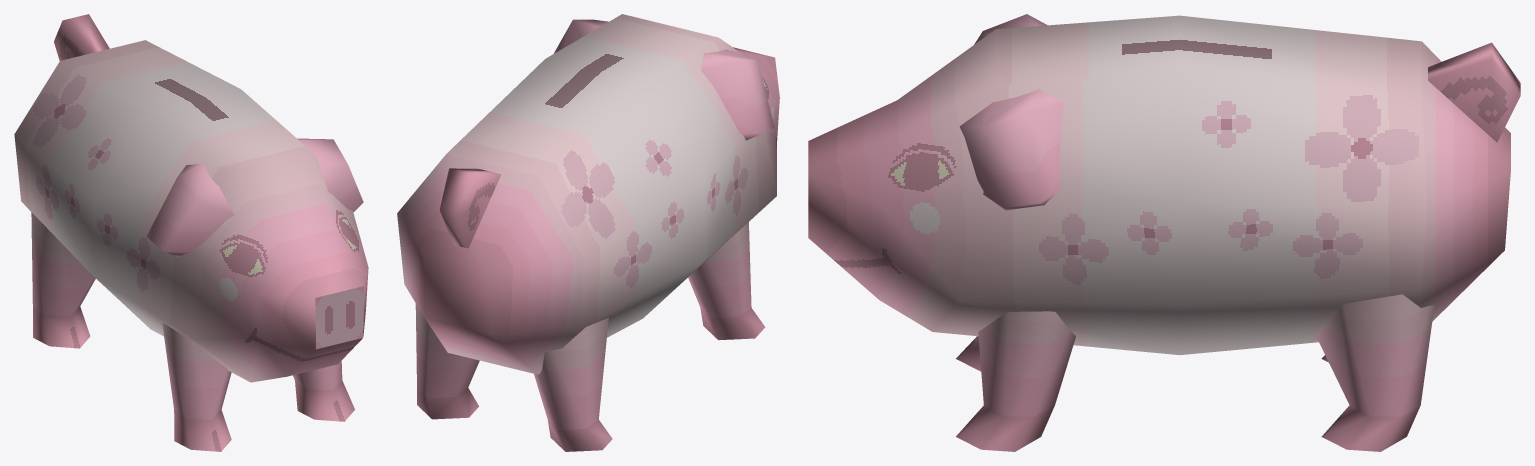
The model's file is 052c_Piggybank.glb.
The picture shows the model from 3 angles, left to right: view 1: azimuth 30°, elevation 25°; view 2: azimuth 150°, elevation 25°; view 3: azimuth 270°, elevation 25°; orthographic projection. The views are drawn at different scales.
Visible parts, largest first — view 1: part_0; view 2: part_0; view 3: part_0.
Part boxes in pixels (x1=…): part_0: x1=14, y1=14, x2=368, y2=451; part_0: x1=397, y1=14, x2=779, y2=451; part_0: x1=808, y1=14, x2=1520, y2=451.
Size of the model in its own units: 0.1182 by 0.1488 by 0.2713.
1 material, 1 textured.
